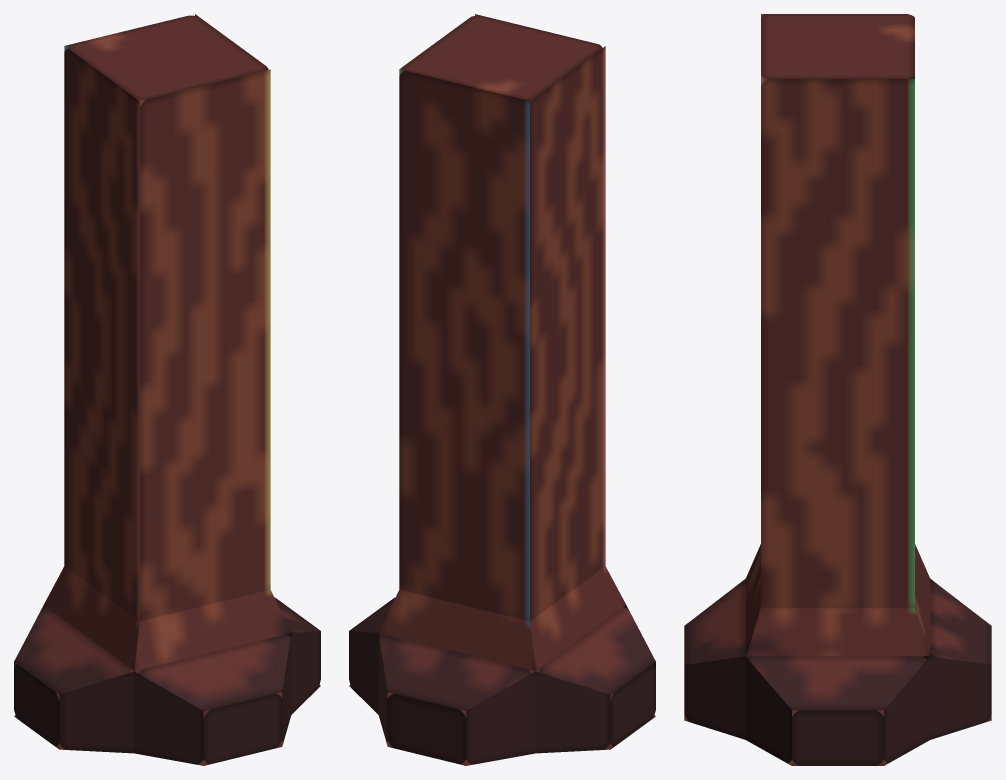
File: tree_1.fbx
The picture shows the model from 3 angles, left to right: view 1: azimuth 30°, elevation 25°; view 2: azimuth 150°, elevation 25°; view 3: azimuth 270°, elevation 25°; orthographic projection.
Visible parts, largest first — view 1: cuboid; view 2: cuboid; view 3: cuboid.
Boxes of the visible parts, x1,y1,x2,y2 form: cuboid: (14,14,320,765); cuboid: (349,14,655,765); cuboid: (684,14,991,765).
Bounding box in the file's own units: 125 × 294 × 125.
Materials: 1 (1 with a texture image).
